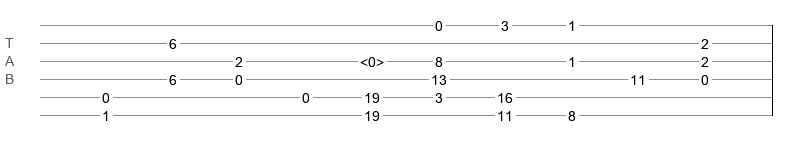0: (102, 90, 110, 100), (235, 72, 243, 82), (302, 90, 310, 100), (435, 18, 443, 28), (701, 72, 709, 82)
1: (102, 108, 110, 118), (568, 18, 576, 28), (568, 54, 576, 64)
11: (497, 108, 513, 118), (630, 72, 646, 82)
13: (431, 72, 447, 82)
16: (497, 90, 513, 100)
19: (364, 108, 380, 118), (364, 90, 380, 100)
2: (235, 54, 243, 64), (701, 54, 709, 64), (701, 36, 709, 46)
3: (435, 90, 443, 100), (501, 18, 509, 28)
6: (169, 36, 177, 46), (169, 72, 177, 82)
8: (435, 54, 443, 64), (568, 108, 576, 118)
harmonic: (360, 54, 384, 64)
